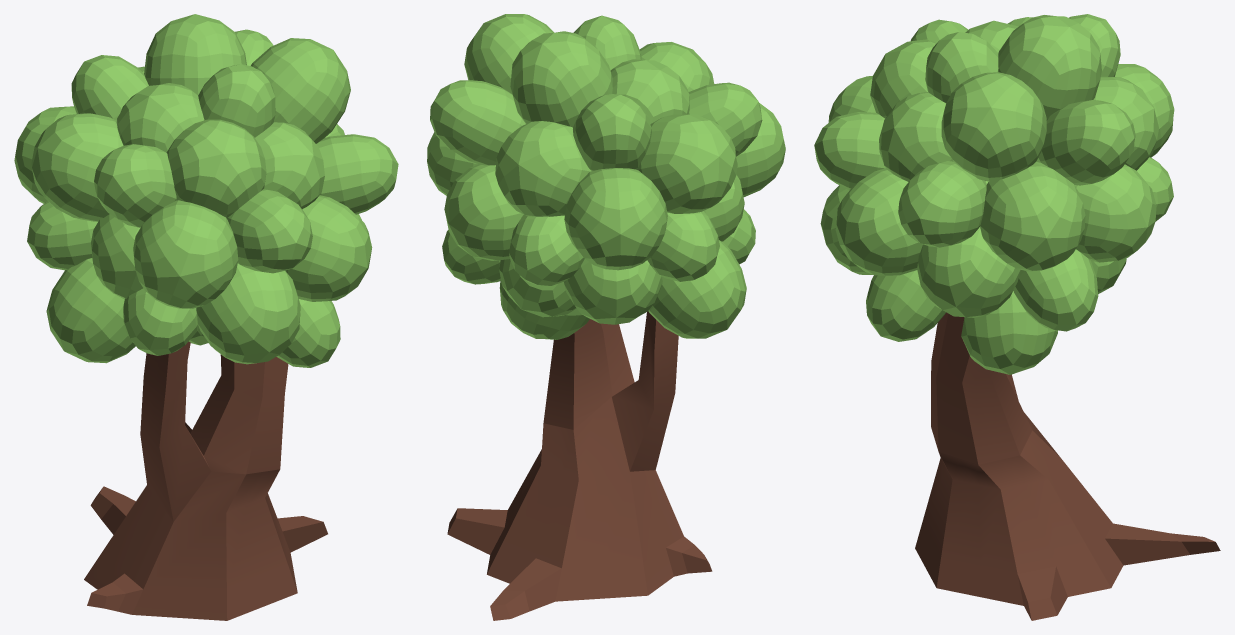
The model's file is big tree.fbx.
3 renders of one model, left to right at view 1: azimuth 30°, elevation 25°; view 2: azimuth 150°, elevation 25°; view 3: azimuth 270°, elevation 25°, orthographic. The views are drawn at different scales.
Visible parts, largest first — view 1: pCylinder7, polySurface17, polySurface26, polySurface7, polySurface10, polySurface5, polySurface30, polySurface19, polySurface2, polySurface16, polySurface12, polySurface14 (+10 smaller); view 2: pCylinder7, polySurface15, polySurface10, polySurface2, polySurface11, polySurface8, polySurface30, polySurface18, polySurface6, polySurface25, polySurface22, polySurface5 (+12 smaller); view 3: pCylinder7, polySurface5, polySurface13, polySurface2, polySurface19, polySurface8, polySurface24, polySurface14, polySurface18, polySurface31, polySurface23, polySurface9 (+13 smaller).
Part boxes in pixels (left/top/right/bottom): pCylinder7: left=84, top=341, right=327, bottom=620; polySurface17: left=133, top=200, right=238, bottom=308; polySurface26: left=196, top=263, right=300, bottom=364; polySurface7: left=166, top=119, right=266, bottom=218; polySurface10: left=31, top=113, right=123, bottom=221; polySurface5: left=251, top=38, right=350, bottom=143; polySurface30: left=46, top=258, right=135, bottom=363; polySurface19: left=285, top=195, right=372, bottom=301; polySurface2: left=144, top=14, right=246, bottom=94; polySurface16: left=227, top=189, right=312, bottom=273; polySurface12: left=94, top=144, right=176, bottom=227; polySurface14: left=316, top=134, right=398, bottom=214; pCylinder7: left=447, top=311, right=712, bottom=620; polySurface15: left=564, top=168, right=667, bottom=270; polySurface10: left=636, top=114, right=737, bottom=213; polySurface2: left=510, top=31, right=612, bottom=127; polySurface11: left=495, top=121, right=591, bottom=216; polySurface8: left=430, top=80, right=525, bottom=165; polySurface30: left=648, top=240, right=746, bottom=338; polySurface18: left=444, top=164, right=523, bottom=260; polySurface6: left=573, top=94, right=651, bottom=170; polySurface25: left=564, top=259, right=663, bottom=324; polySurface22: left=509, top=214, right=584, bottom=285; polySurface5: left=464, top=14, right=553, bottom=93; pCylinder7: left=915, top=312, right=1220, bottom=620; polySurface5: left=941, top=72, right=1046, bottom=181; polySurface13: left=980, top=162, right=1085, bottom=271; polySurface2: left=998, top=15, right=1101, bottom=119; polySurface19: left=835, top=168, right=922, bottom=275; polySurface8: left=1038, top=100, right=1135, bottom=185; polySurface24: left=917, top=227, right=1020, bottom=317; polySurface14: left=898, top=161, right=986, bottom=247; polySurface18: left=1074, top=164, right=1156, bottom=262; polySurface31: left=961, top=291, right=1058, bottom=374; polySurface23: left=1013, top=249, right=1098, bottom=331; polySurface9: left=879, top=92, right=953, bottom=181.
Size of what is drawn, in the model's own units: 4.94 by 8.36 by 5.64.
